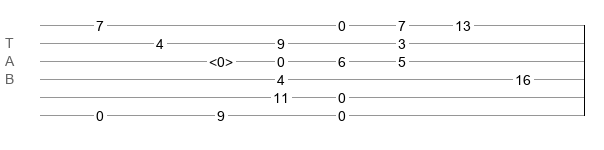0: (96, 108, 104, 118), (277, 54, 285, 64), (338, 18, 346, 28), (338, 90, 346, 100), (338, 108, 346, 118)
11: (273, 90, 289, 100)
13: (455, 18, 471, 28)
16: (515, 72, 531, 82)
3: (398, 36, 406, 46)
4: (156, 36, 164, 46), (277, 72, 285, 82)
5: (398, 54, 406, 64)
6: (338, 54, 346, 64)
7: (96, 18, 104, 28), (398, 18, 406, 28)
9: (217, 108, 225, 118), (277, 36, 285, 46)
harmonic: (209, 54, 233, 64)
